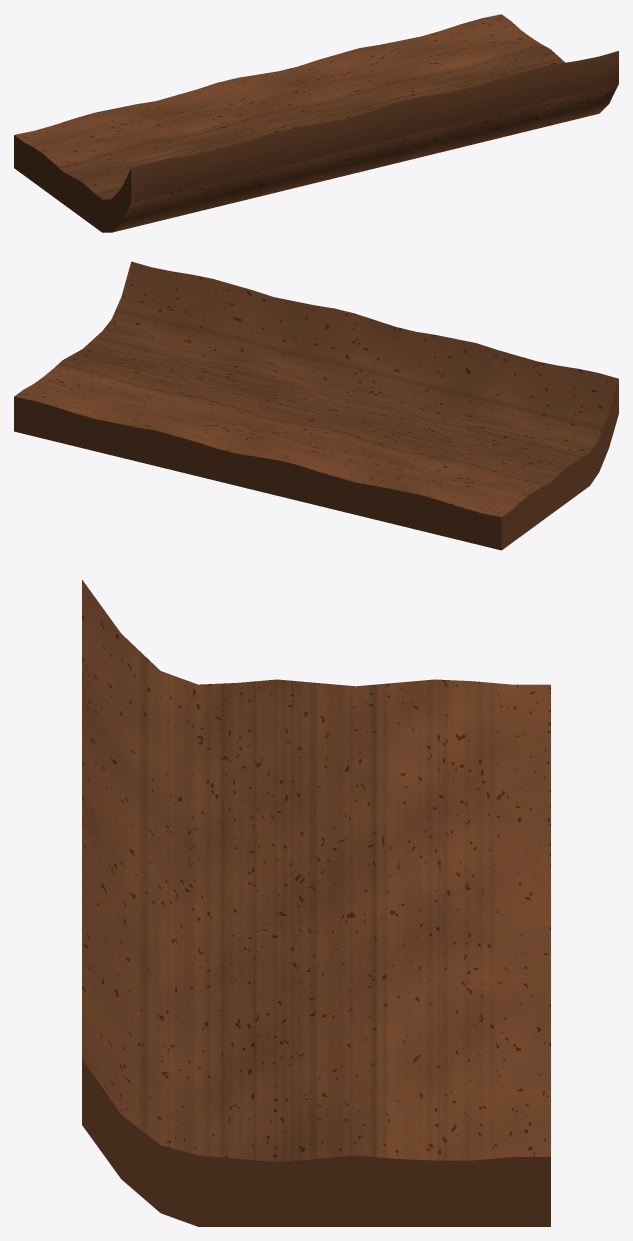
The model's file is ToolMarkCast.obj.
The picture shows the model from 3 angles, top to bottom: view 1: azimuth 30°, elevation 25°; view 2: azimuth 150°, elevation 25°; view 3: azimuth 270°, elevation 25°; orthographic projection. The views are drawn at different scales.
Parts seen in each view (by area): view 1: Silicone; view 2: Silicone; view 3: Silicone.
Boxes of the visible parts, bbox=[...] form: Silicone: bbox=[14, 14, 618, 232]; Silicone: bbox=[14, 261, 618, 550]; Silicone: bbox=[82, 580, 550, 1226].
Bounding box in the file's own units: 0.06 × 0.0102 × 0.025.
Materials: 1 (1 with a texture image).
